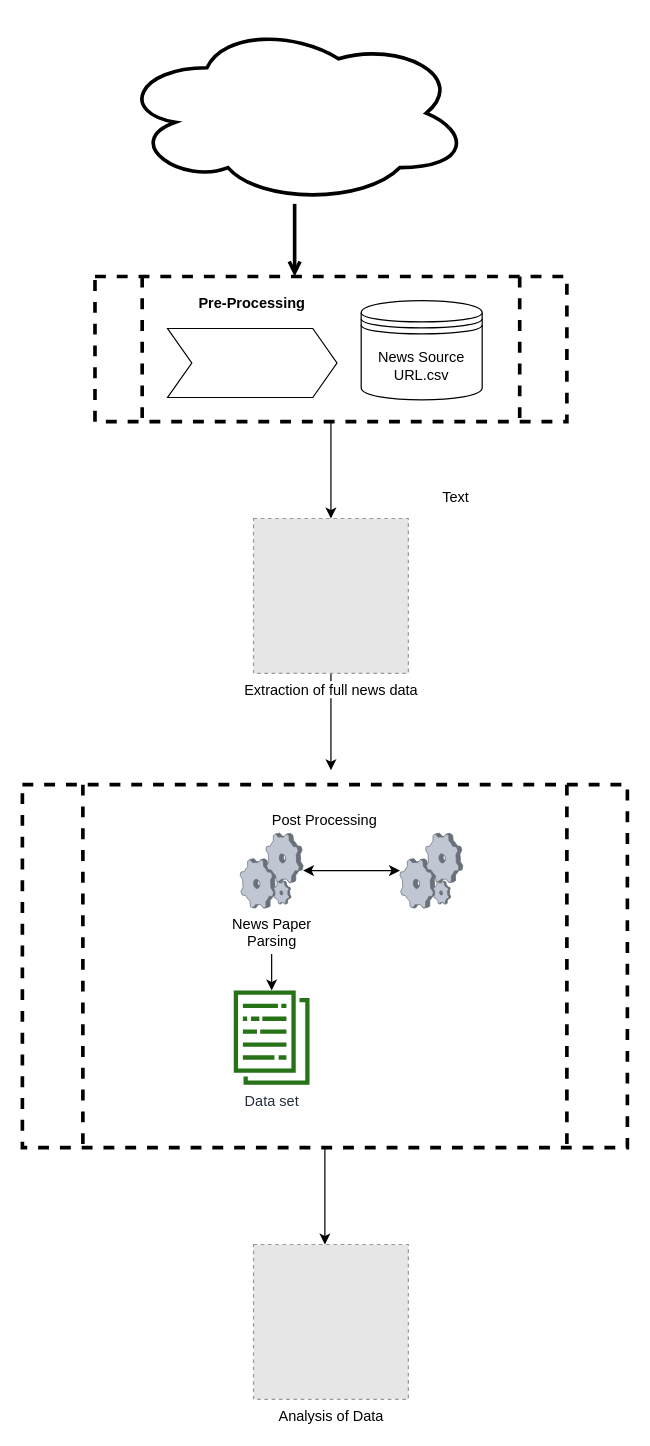
Some shapes in this 650 by 1446 pixel diagram are drawn without their labels. Grey dashed boxes stand in for pictures. Each missing label, with the centre of its shape:
"Bengali news paper scrapper" belongs at point (430, 870).
"Extraction of news URL" belongs at point (294, 112).
"Web Scrapping" belongs at point (251, 362).
